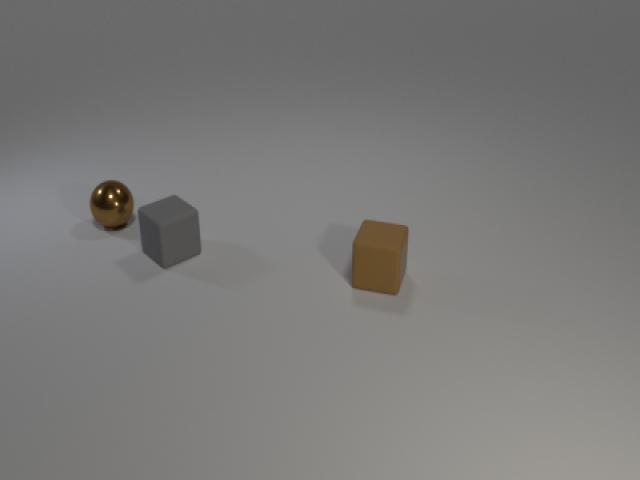round ball: (87, 174, 135, 234)
